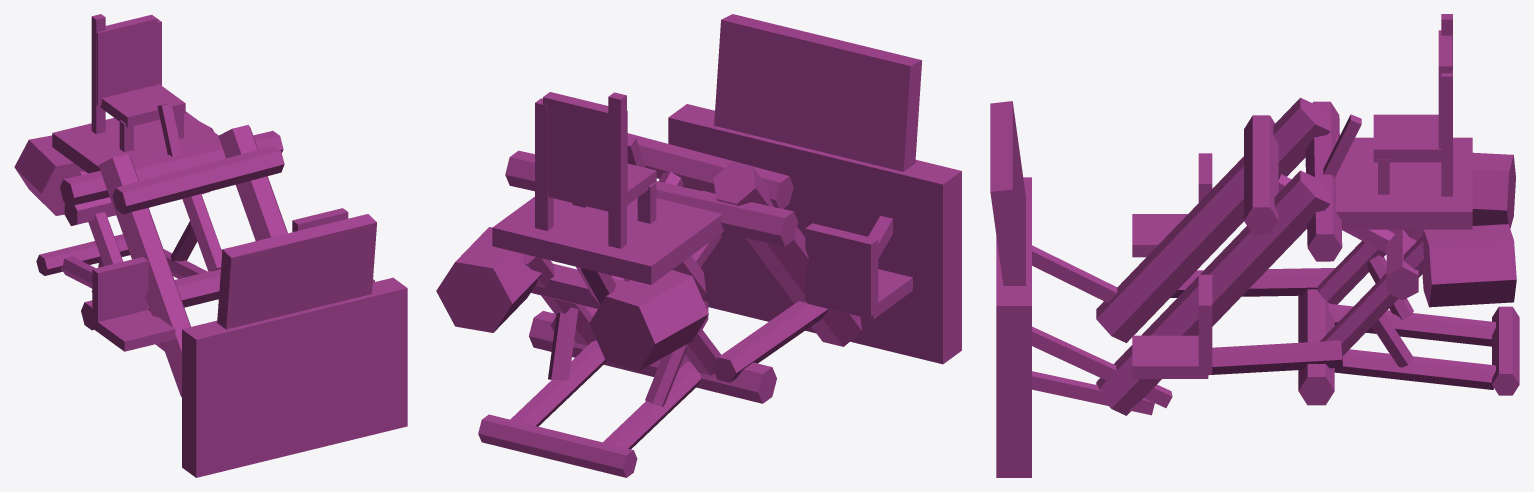
File: SM_Veh_Scoop_01_Collision.fbx
3 renders of one model, left to right at view 1: azimuth 30°, elevation 25°; view 2: azimuth 150°, elevation 25°; view 3: azimuth 270°, elevation 25°, orthographic. The views are drawn at different scales.
Parts seen in each view (by area): view 1: SM_Veh_Scoop_01_Collision; view 2: SM_Veh_Scoop_01_Collision; view 3: SM_Veh_Scoop_01_Collision.
Boxes of the visible parts, x1,y1,x2,y2 form: SM_Veh_Scoop_01_Collision: [14, 14, 407, 477]; SM_Veh_Scoop_01_Collision: [436, 14, 961, 477]; SM_Veh_Scoop_01_Collision: [990, 14, 1519, 477].
Bounding box in the file's own units: 332 × 391 × 489.
